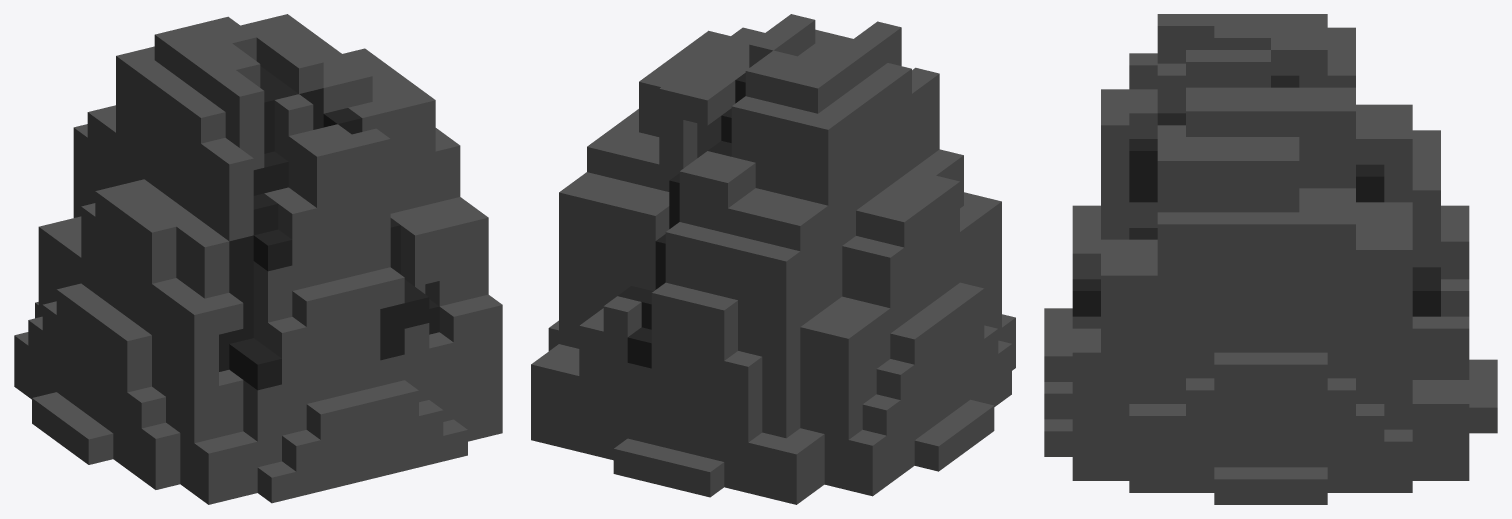
Rendered from rock.obj.
3 views of the same model, side by side, from view 1: azimuth 30°, elevation 25°; view 2: azimuth 150°, elevation 25°; view 3: azimuth 270°, elevation 25° (orthographic).
Size of the model in its own units: 1.6 by 1.4 by 1.6.
Materials: 1 (1 with a texture image).
